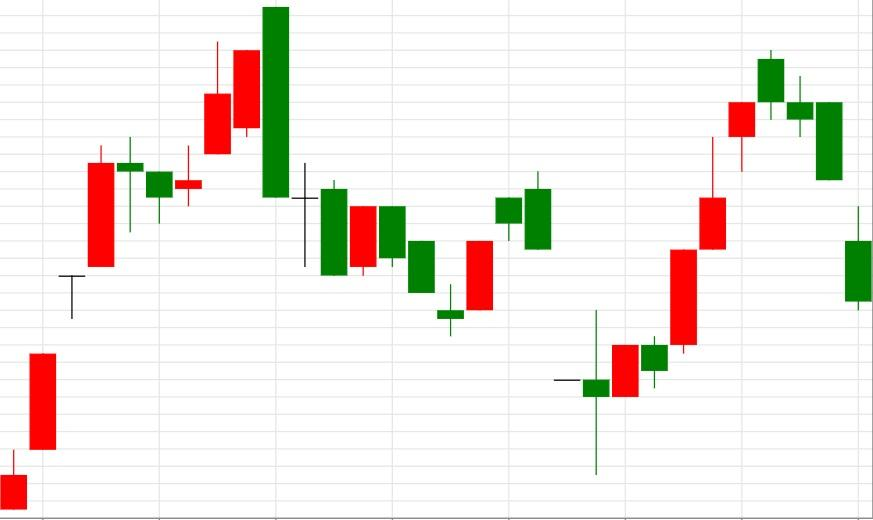bearish_engulfing_fall: (145, 7, 289, 224)
